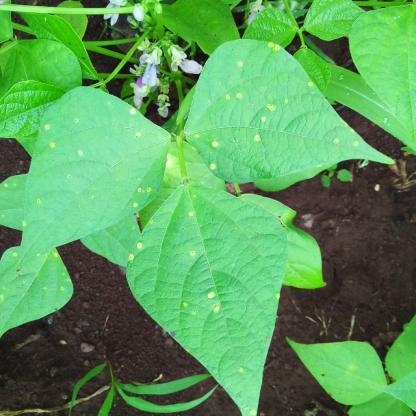Beans_Rust: (121, 177, 283, 416), (182, 42, 392, 190), (14, 86, 170, 262), (2, 240, 74, 328), (0, 173, 25, 229)
